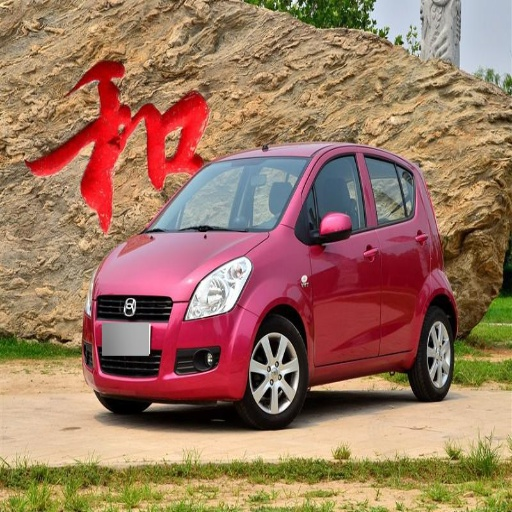front_bumper: (86, 292, 260, 404)
front_glass: (146, 157, 309, 232)
front_left_door: (297, 150, 382, 367)
